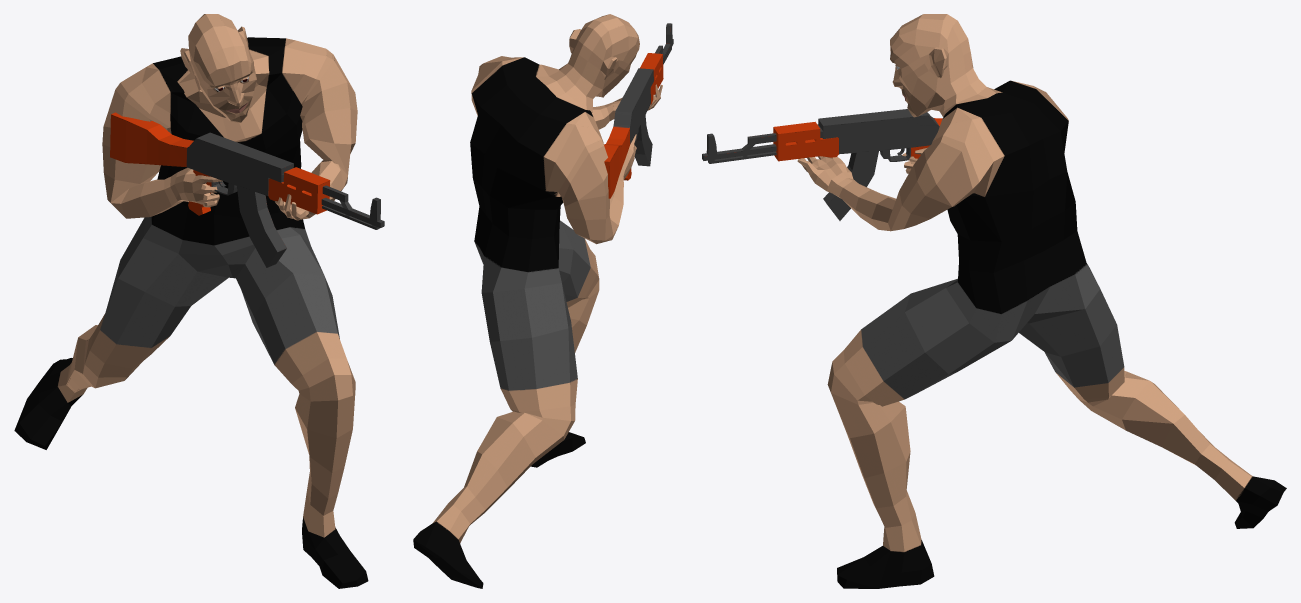
The model's file is PlayerWalk(10).obj.
3 views of the same model, side by side, from view 1: azimuth 30°, elevation 25°; view 2: azimuth 150°, elevation 25°; view 3: azimuth 270°, elevation 25° (orthographic). The views are drawn at different scales.
Parts seen in each view (by area): view 1: Plane002, Object001; view 2: Plane002, Object001; view 3: Plane002, Object001.
Boxes of the visible parts, x1,y1,x2,y2 form: Plane002: (14, 14, 368, 588); Object001: (110, 112, 384, 267); Plane002: (413, 14, 662, 588); Object001: (604, 23, 673, 198); Plane002: (797, 14, 1286, 588); Object001: (702, 109, 942, 220).
Bounding box in the file's own units: 573 × 1528 × 1544.
